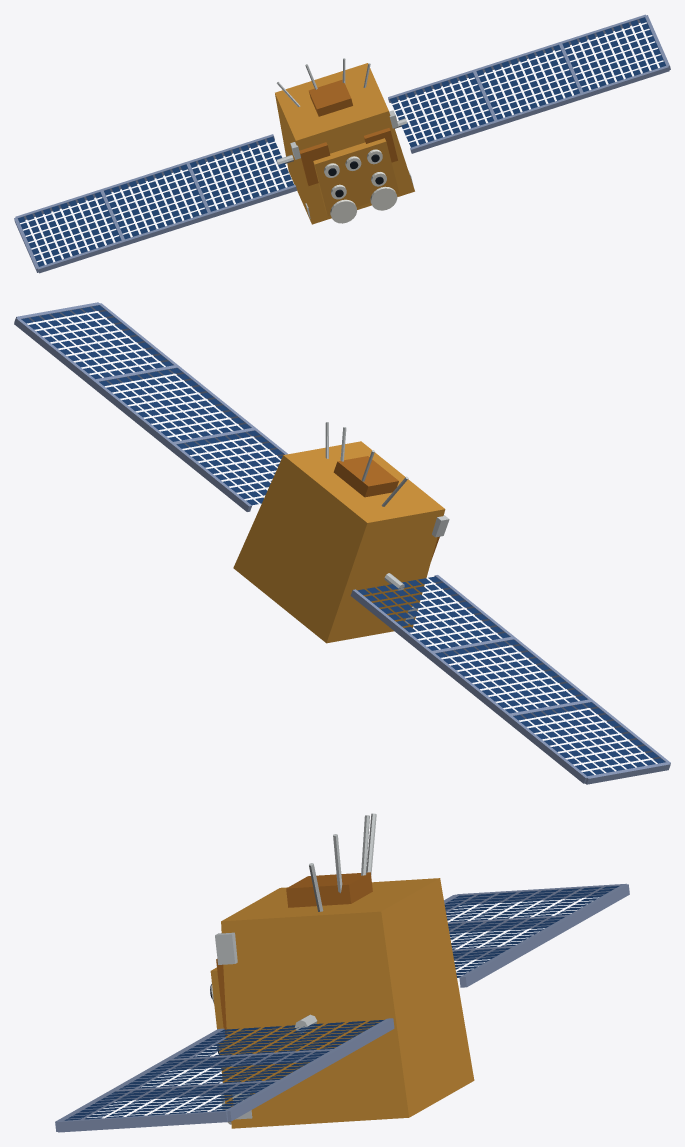
File: IRS-1A.glb
The picture shows the model from 3 angles, top to bottom: view 1: azimuth 30°, elevation 25°; view 2: azimuth 150°, elevation 25°; view 3: azimuth 270°, elevation 25°; orthographic projection. The views are drawn at different scales.
Visible parts, largest first — view 1: IRS_1A_CONSOLIDATED_SOLAR_CELLS, IRS_1A_MAIN_GOLD_BUS, IRS_1A_CONSOLIDATED_SOLAR_FRAMES, IRS_1A_FRONT_PAYLOAD_PANEL, IRS_1A_GOLD_PANEL_DETAILS, IRS_1A_TOP_EQUIPMENT_BOX, IRS_1A_LOWER_PAYLOAD_APERTURES, IRS_1A_CONSOLIDATED_PAYLOAD_APERTURES; view 2: IRS_1A_MAIN_GOLD_BUS, IRS_1A_CONSOLIDATED_SOLAR_CELLS, IRS_1A_CONSOLIDATED_SOLAR_FRAMES, IRS_1A_TOP_EQUIPMENT_BOX; view 3: IRS_1A_MAIN_GOLD_BUS, IRS_1A_CONSOLIDATED_SOLAR_CELLS, IRS_1A_CONSOLIDATED_SOLAR_FRAMES, IRS_1A_TOP_EQUIPMENT_BOX, IRS_1A_CONSOLIDATED_TOP_ANTENNAS, IRS_1A_CONSOLIDATED_STRUCTURAL_BRACKETS, IRS_1A_FRONT_PAYLOAD_PANEL.
Part boxes in pixels (x1,y1,x2,y2): IRS_1A_CONSOLIDATED_SOLAR_CELLS: (18, 17, 665, 266); IRS_1A_MAIN_GOLD_BUS: (275, 63, 414, 224); IRS_1A_CONSOLIDATED_SOLAR_FRAMES: (14, 14, 670, 273); IRS_1A_FRONT_PAYLOAD_PANEL: (313, 138, 399, 216); IRS_1A_GOLD_PANEL_DETAILS: (299, 128, 397, 185); IRS_1A_TOP_EQUIPMENT_BOX: (308, 79, 352, 116); IRS_1A_LOWER_PAYLOAD_APERTURES: (330, 186, 397, 223); IRS_1A_CONSOLIDATED_PAYLOAD_APERTURES: (324, 149, 386, 199); IRS_1A_MAIN_GOLD_BUS: (233, 441, 445, 643); IRS_1A_CONSOLIDATED_SOLAR_CELLS: (21, 305, 665, 776); IRS_1A_CONSOLIDATED_SOLAR_FRAMES: (14, 302, 670, 784); IRS_1A_TOP_EQUIPMENT_BOX: (333, 456, 398, 497); IRS_1A_MAIN_GOLD_BUS: (221, 878, 474, 1128); IRS_1A_CONSOLIDATED_SOLAR_CELLS: (64, 886, 619, 1120); IRS_1A_CONSOLIDATED_SOLAR_FRAMES: (55, 883, 629, 1132); IRS_1A_TOP_EQUIPMENT_BOX: (286, 872, 372, 907); IRS_1A_CONSOLIDATED_TOP_ANTENNAS: (309, 813, 376, 911); IRS_1A_CONSOLIDATED_STRUCTURAL_BRACKETS: (215, 932, 252, 1119); IRS_1A_FRONT_PAYLOAD_PANEL: (210, 967, 230, 1103).
Bounding box in the file's own units: 8.49 × 2.48 × 3.81.
